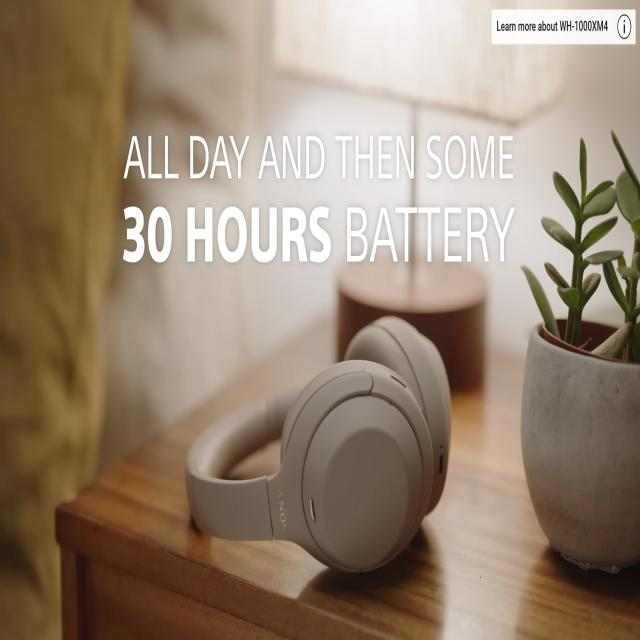Headphone: (185, 312, 452, 574)
